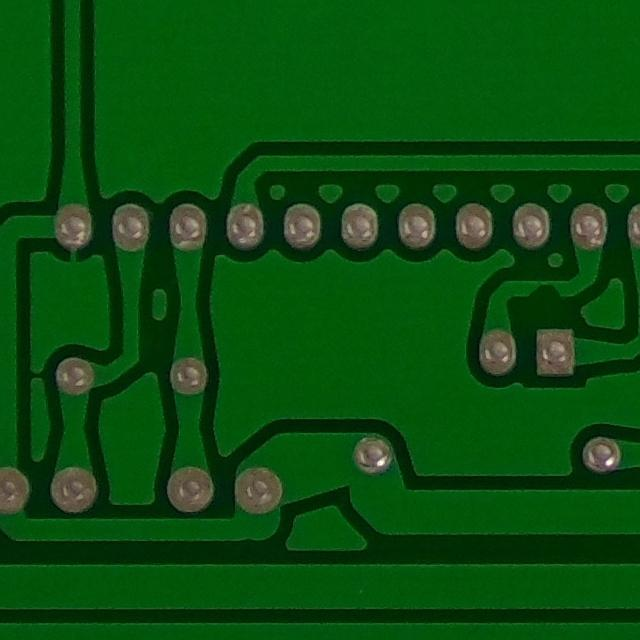mouse_bite: (519, 274, 575, 308)
